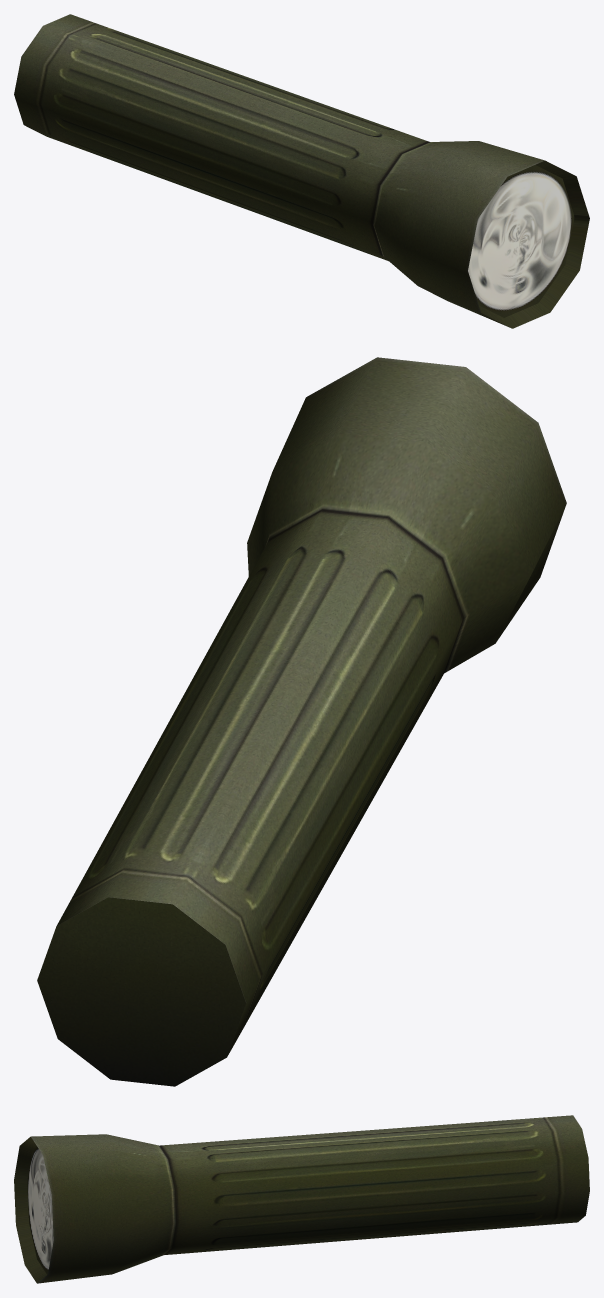
File: torch.fbx
3 renders of one model, top to bottom at view 1: azimuth 30°, elevation 25°; view 2: azimuth 150°, elevation 25°; view 3: azimuth 270°, elevation 25°, orthographic. The views are drawn at different scales.
Parts seen in each view (by area): view 1: torch; view 2: torch; view 3: torch.
Part boxes in pixels (x1=…): torch: x1=14, y1=14, x2=589, y2=328; torch: x1=37, y1=357, x2=566, y2=1086; torch: x1=14, y1=1115, x2=589, y2=1283.
Bounding box in the file's own units: 13.15 × 7.03 × 27.67.
